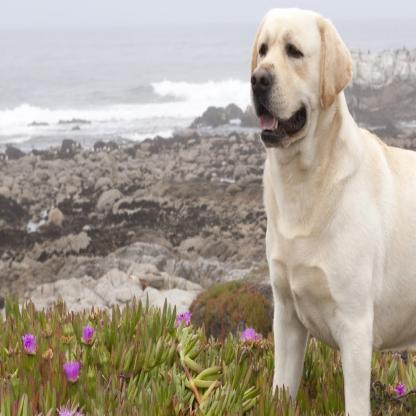dog: (249, 7, 416, 413)
